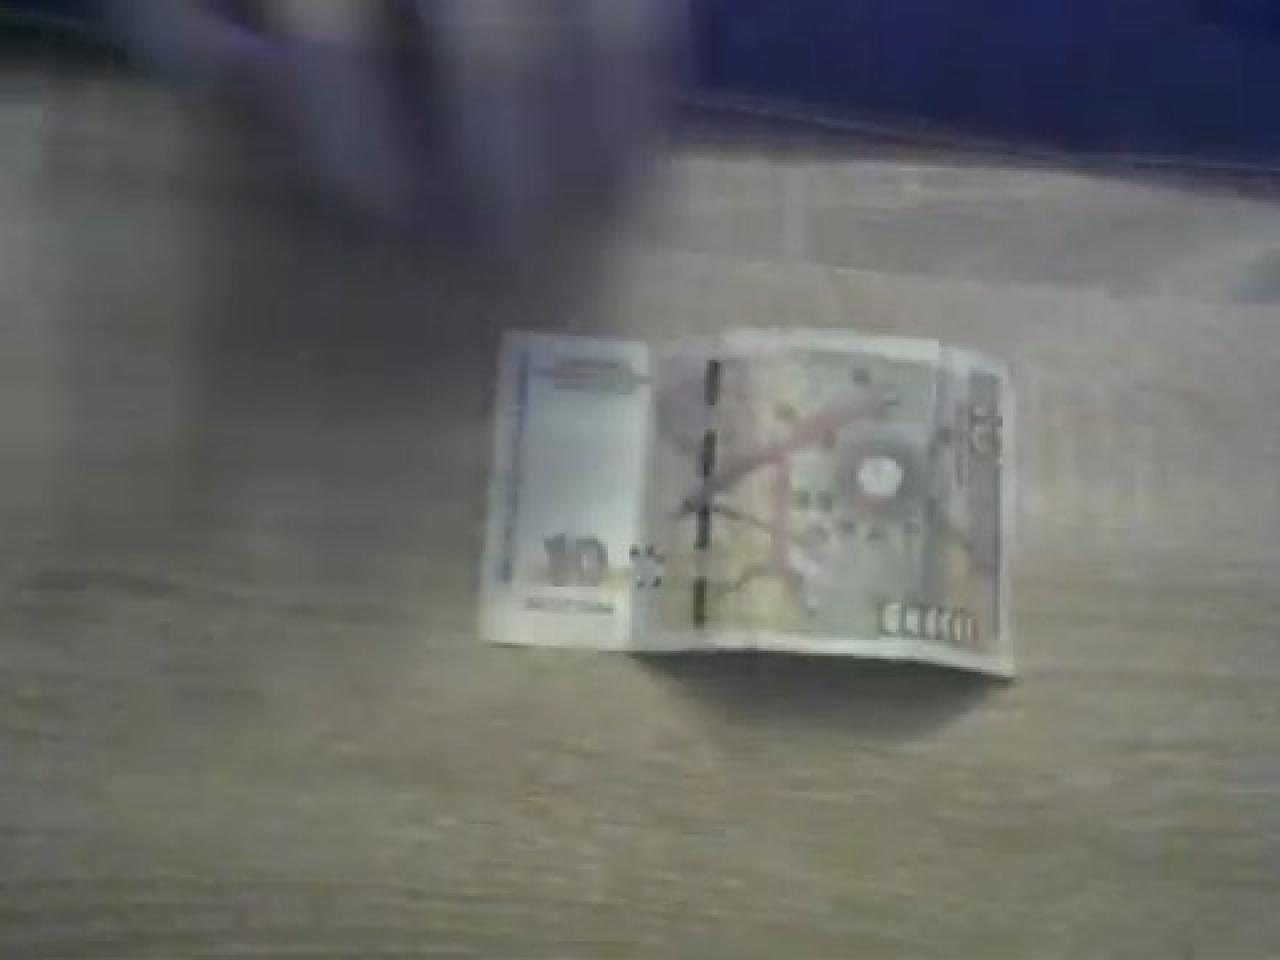10leva: (480, 328, 1029, 683)
